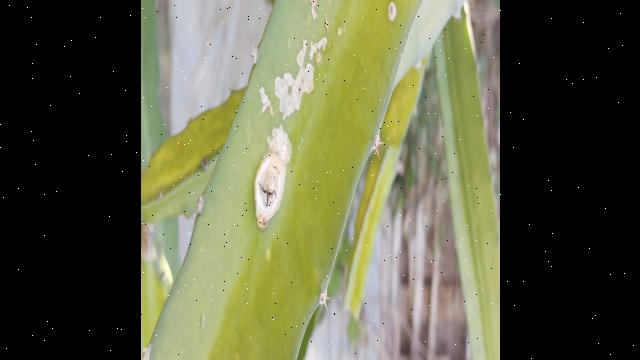stemcanker: (384, 0, 402, 26), (262, 244, 276, 266)
